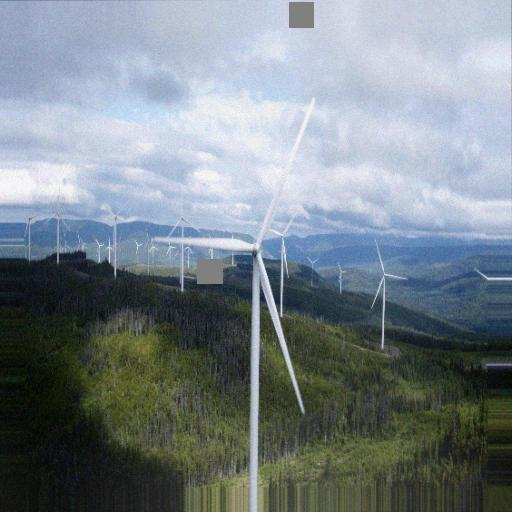wind turbine: (146, 96, 320, 477), (369, 236, 411, 348), (265, 208, 301, 316), (165, 189, 199, 289)
